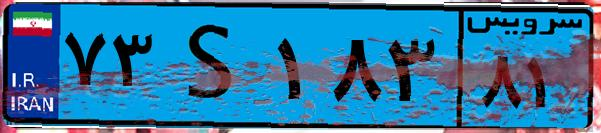1: (270, 28, 330, 110), (525, 38, 570, 115)
3: (385, 28, 445, 110), (110, 28, 158, 98)
7: (57, 26, 110, 100)
8: (330, 28, 385, 110), (475, 38, 525, 113)
S: (158, 12, 270, 120)
